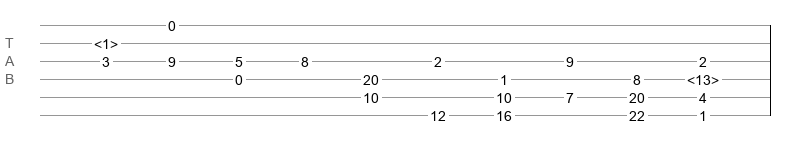0: (168, 18, 176, 28), (235, 72, 243, 82)
1: (500, 72, 508, 82), (699, 108, 707, 118)
10: (363, 90, 379, 100), (496, 90, 512, 100)
12: (430, 108, 446, 118)
16: (496, 108, 512, 118)
2: (434, 54, 442, 64), (699, 54, 707, 64)
20: (363, 72, 379, 82), (629, 90, 645, 100)
22: (629, 108, 645, 118)
3: (102, 54, 110, 64)
4: (699, 90, 707, 100)
5: (235, 54, 243, 64)
7: (566, 90, 574, 100)
8: (301, 54, 309, 64), (633, 72, 641, 82)
9: (168, 54, 176, 64), (566, 54, 574, 64)
harmonic: (687, 72, 719, 82), (94, 36, 118, 46)
